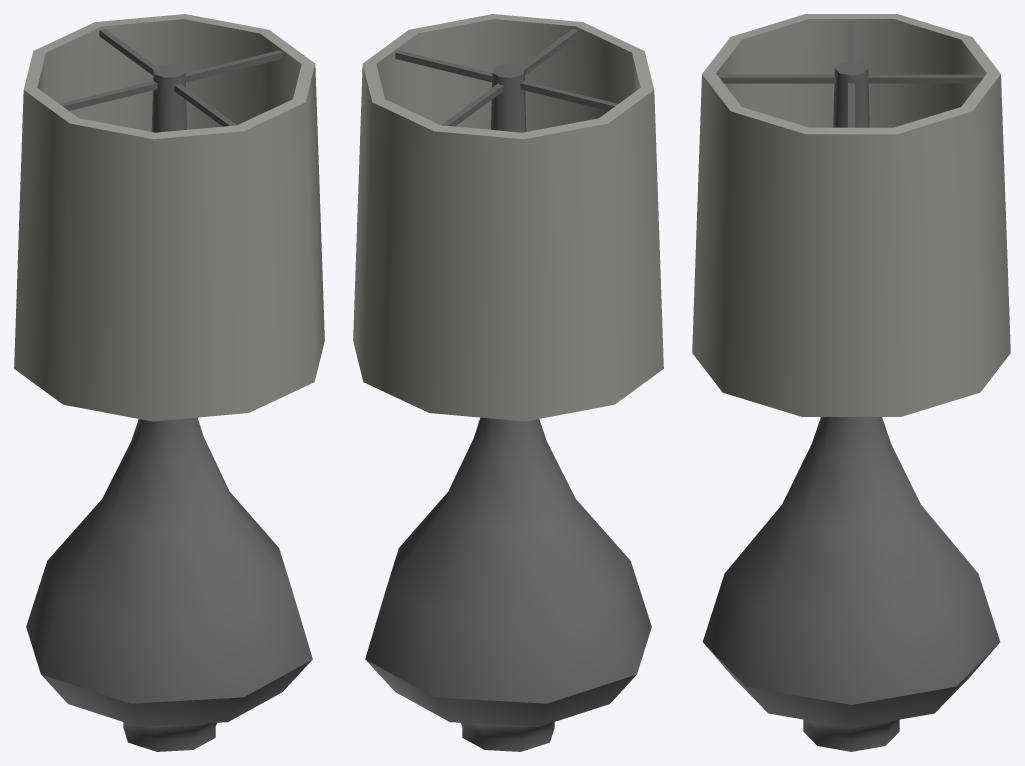
Rendered from Light_Floor2.glb.
The picture shows the model from 3 angles, left to right: view 1: azimuth 30°, elevation 25°; view 2: azimuth 150°, elevation 25°; view 3: azimuth 270°, elevation 25°; orthographic projection.
Parts seen in each view (by area): view 1: Light_Floor2; view 2: Light_Floor2; view 3: Light_Floor2.
Part boxes in pixels (box(x1,y1,x2,y2)): Light_Floor2: box(14, 14, 324, 751); Light_Floor2: box(353, 14, 663, 751); Light_Floor2: box(692, 14, 1010, 751).
Bounding box in the file's own units: 0.1532 × 0.37 × 0.1611.
2 materials, 2 textured.
